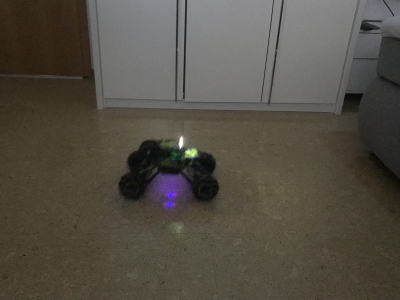remote control car: (117, 133, 221, 201)
